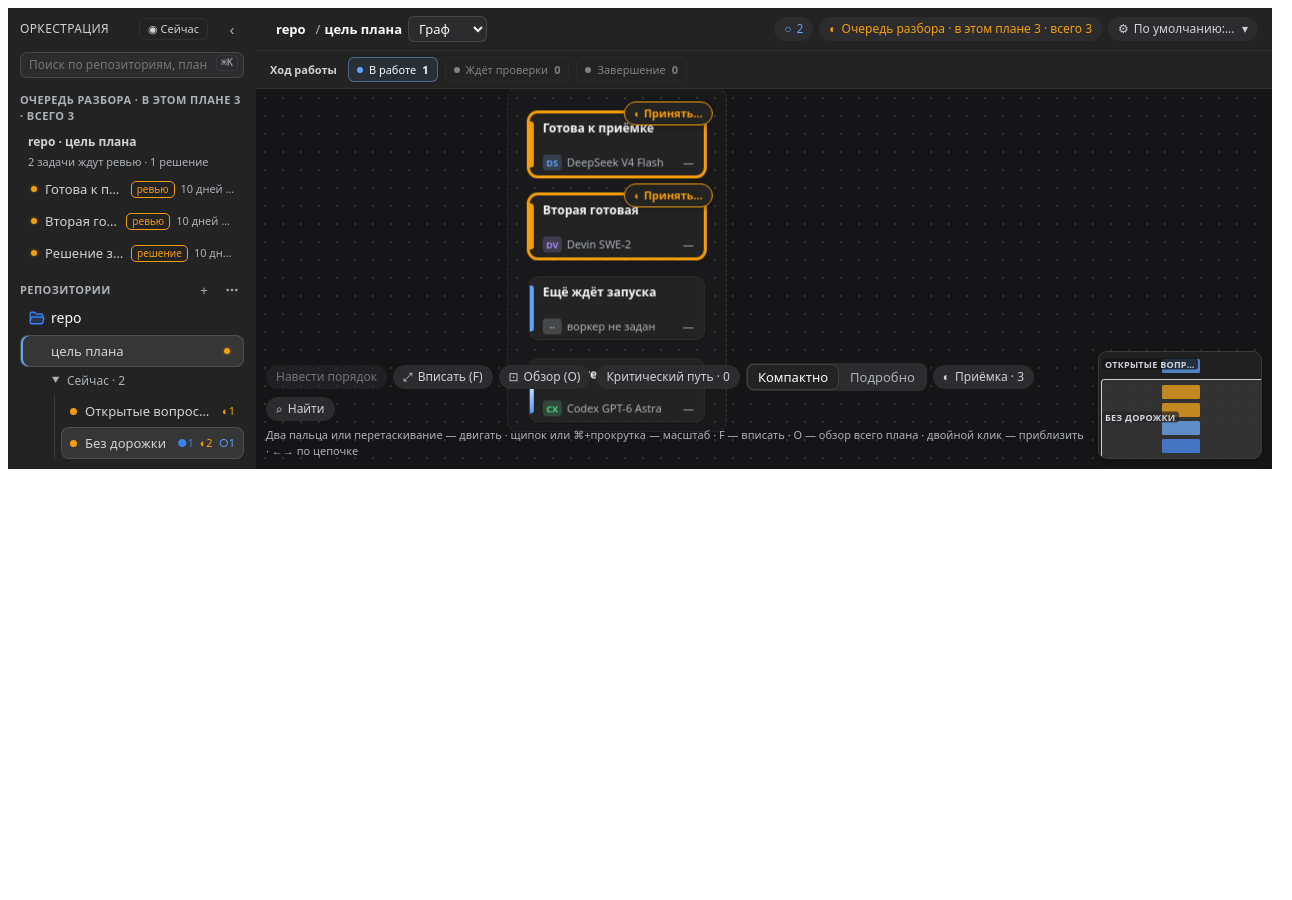
Test: a declined confirmation is named at the row
This screenshot has width=1292, height=900.
Click the button "◐ Очередь разбора · в этом плане 3 · всего 3" at (961, 29), box [819,17,1102,41]
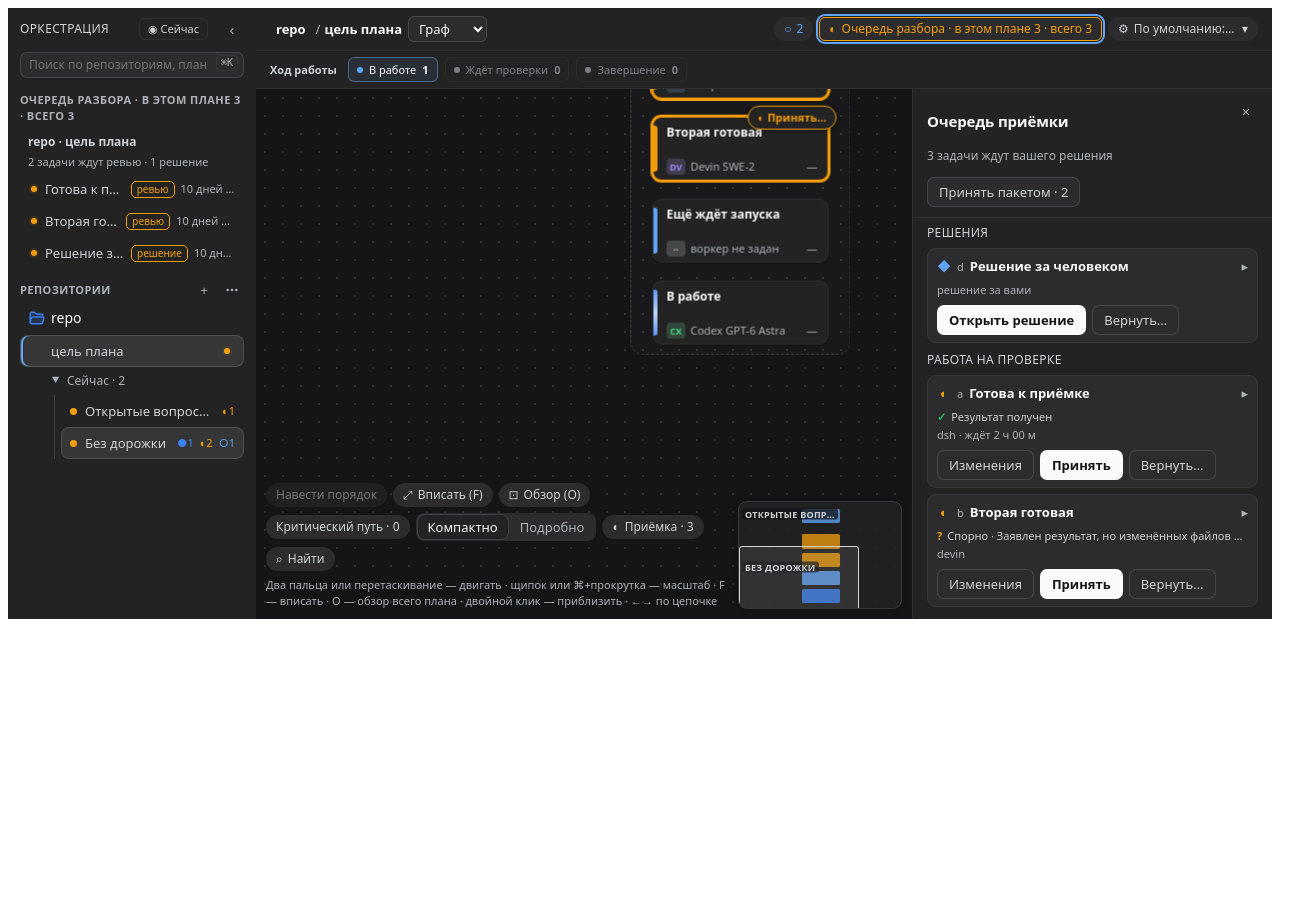
Click the button "Принять" below "Результат получен" at (1081, 465), box [1040,450,1123,480]
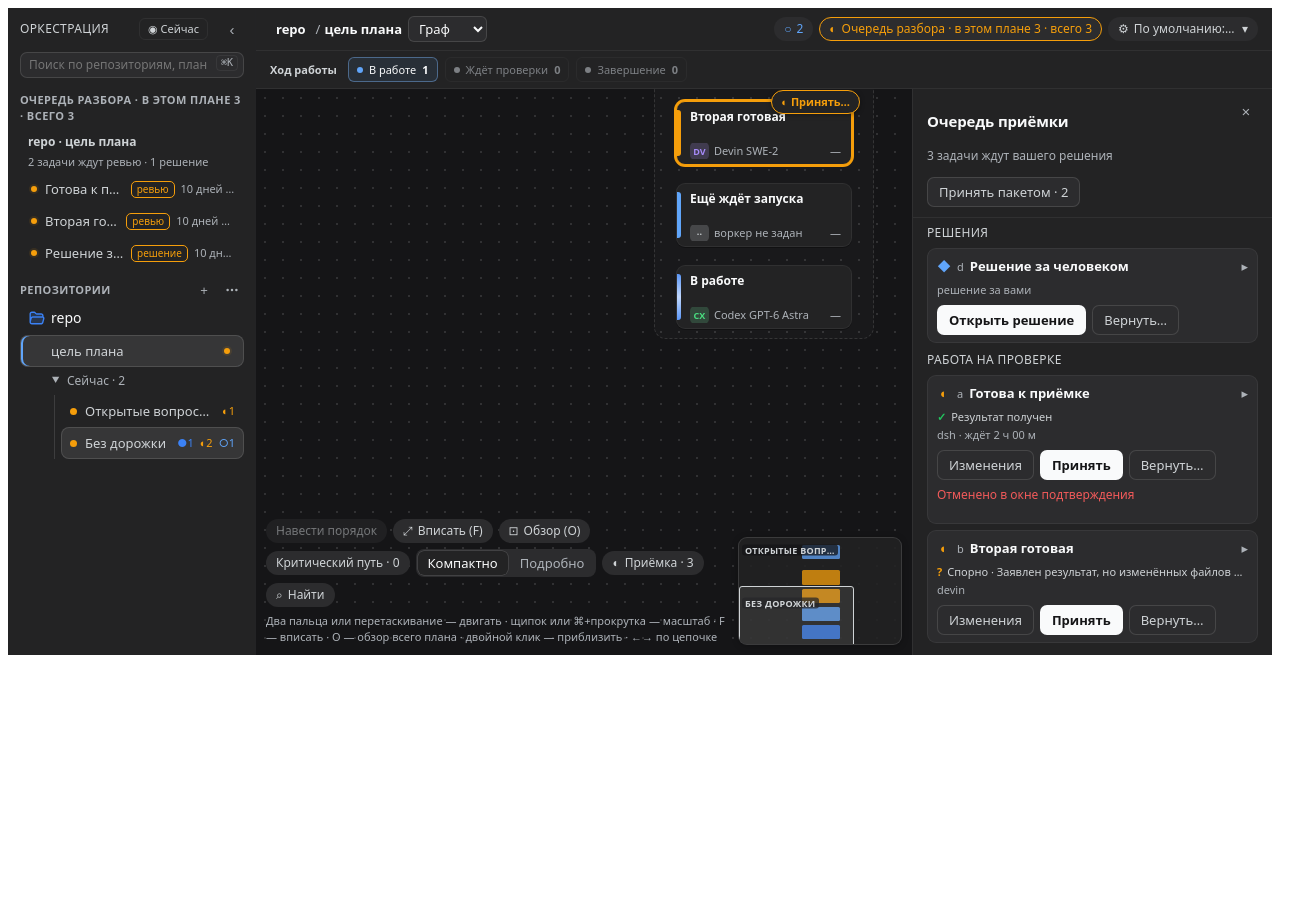
Check: the text "Отменено в окне подтверждения" is shown, box [937,486,1134,503]
